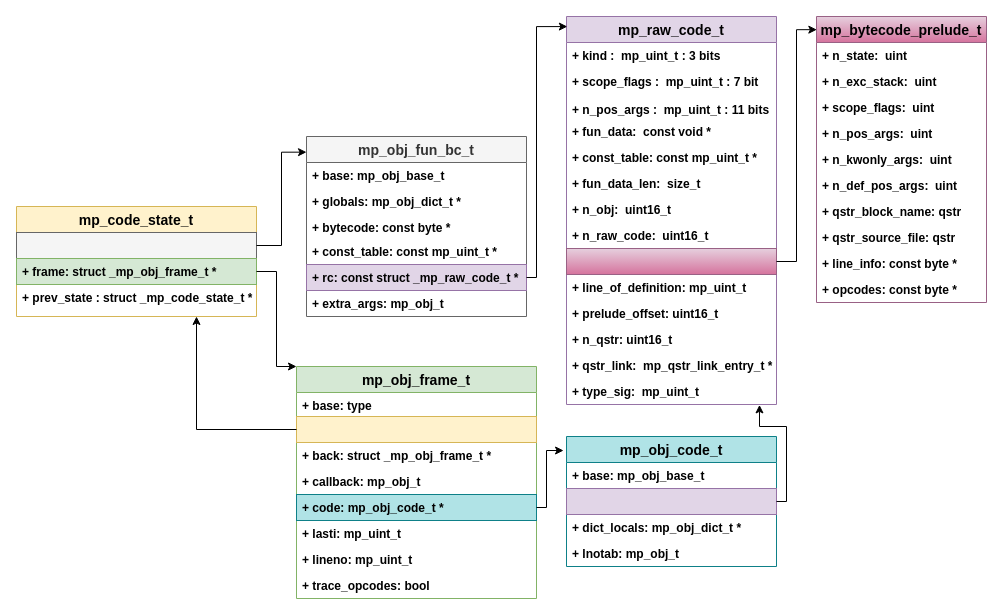
Some shapes in this 1003 by 615 pixel diagram are drawn without their labels. The centre of each missing label's shape, as x and y in pixels:
+ code_state: const mp_code_state_t *: the point at 416,429
+ fun_bc: mp_obj_fun_bc_t*: the point at 136,245
+ prelude: mp_bytecode_prelude_t: the point at 671,261
+ rc: const mp_raw_code_t *: the point at 671,501
